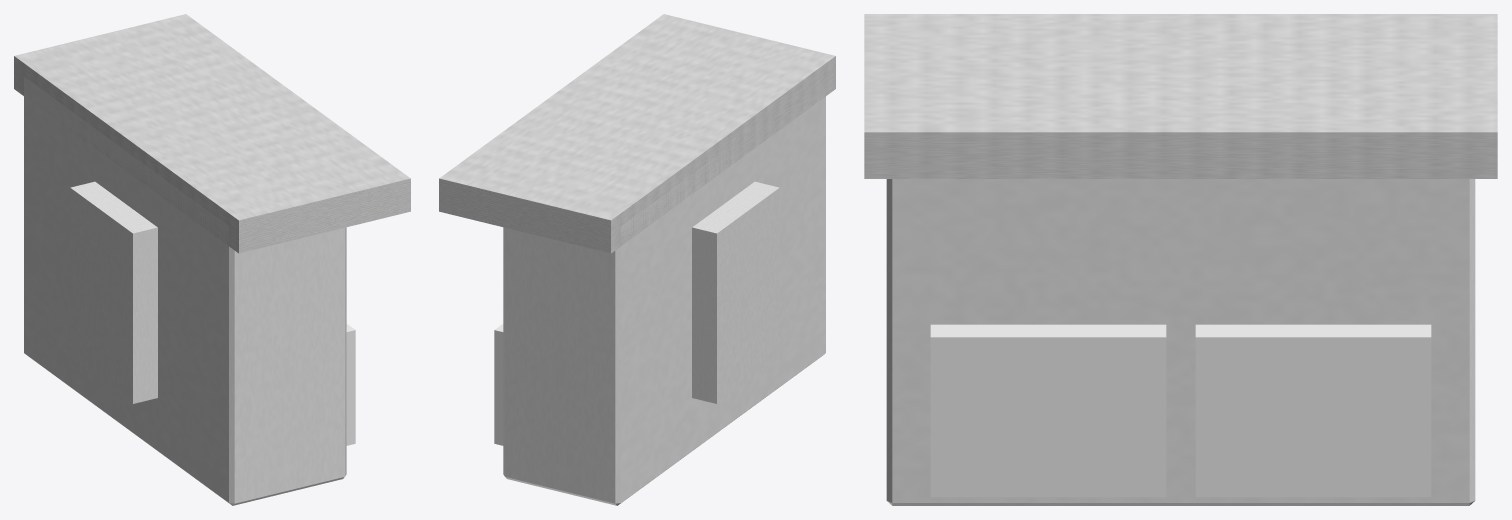
The model's file is industrialwallpacklight.obj.
3 renders of one model, left to right at view 1: azimuth 30°, elevation 25°; view 2: azimuth 150°, elevation 25°; view 3: azimuth 270°, elevation 25°, orthographic. The views are drawn at different scales.
Visible parts, largest first — view 1: Metal, Trim, Base, Light1; view 2: Metal, Trim, Base, Light0; view 3: Metal, Trim, Light0, Light1.
Boxes of the visible parts, x1,y1,x2,y2 form: Metal: [24, 76, 346, 505]; Trim: [14, 14, 410, 253]; Base: [70, 181, 157, 403]; Light1: [346, 324, 355, 445]; Metal: [503, 84, 825, 505]; Trim: [439, 14, 835, 253]; Base: [692, 181, 779, 403]; Light0: [494, 324, 503, 445]; Metal: [886, 179, 1475, 505]; Trim: [864, 14, 1497, 178]; Light0: [1195, 324, 1431, 497]; Light1: [930, 324, 1166, 497].
Bounding box in the file's own units: 0.435 × 0.62 × 0.86.
